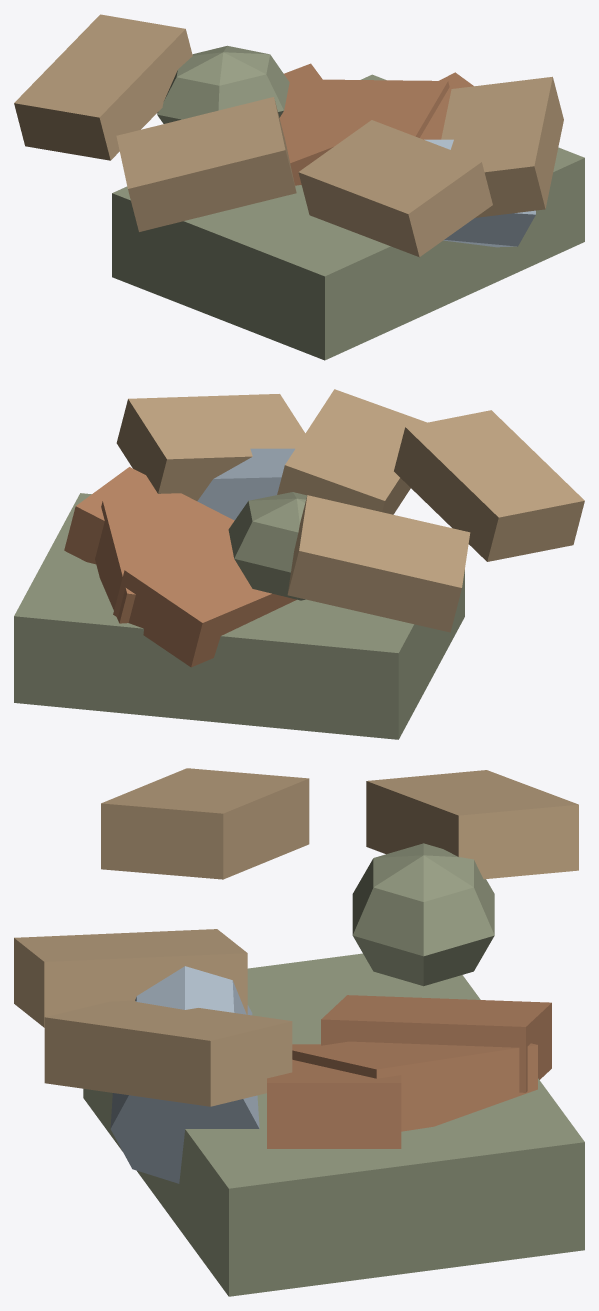
File: scrap_medium_source.glb
The picture shows the model from 3 angles, top to bottom: view 1: azimuth 30°, elevation 25°; view 2: azimuth 150°, elevation 25°; view 3: azimuth 270°, elevation 25°; orthographic projection. The views are drawn at different scales.
Visible parts, largest first — view 1: salvage-pile; view 2: salvage-pile; view 3: salvage-pile.
Boxes of the visible parts, left/top/right/bottom form: salvage-pile: left=14, top=14, right=584, bottom=360; salvage-pile: left=14, top=389, right=584, bottom=739; salvage-pile: left=14, top=768, right=584, bottom=1296.
Bounding box in the file's own units: 0.9425 × 0.4245 × 0.7658.
